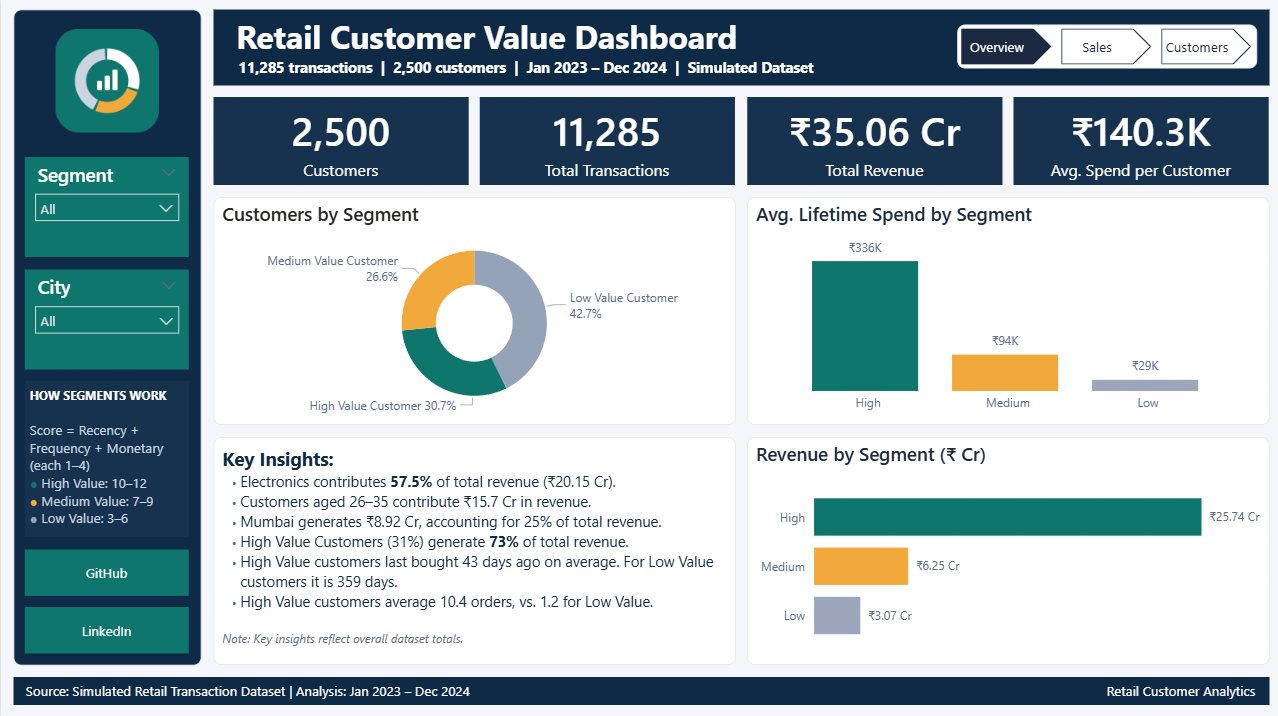

This screenshot's page, from the dashboard's own definition file:
{"tool":"powerbi","page":{"name":"Overview","canvas":[1280,720],"ordinal":0},"visuals":[{"type":"card","fields":{"Values":["High_Value_Customers.Customers"]},"box":[212,100,255,88],"z":0},{"type":"card","fields":{"Values":["High_Value_Customers.Total Transactions"]},"box":[479,100,255,88],"z":1000},{"type":"card","fields":{"Values":["High_Value_Customers.Sales (₹ Cr)"]},"box":[746,100,255,88],"z":2000},{"type":"card","fields":{"Values":["High_Value_Customers.Avg Spend (₹K)"]},"box":[1013,100,255,88],"z":3000},{"type":"donutChart","title":"Customers by Segment","fields":{"Category":["RFM_Analysis.Segment"],"Y":["CountNonNull(RFM_Analysis.customer_id)"]},"box":[212,200,522,228],"z":4000},{"type":"clusteredBarChart","title":"Revenue by Segment (₹ Cr)","fields":{"Category":["RFM_Analysis.Segment Short"],"Y":["High_Value_Customers.Revenue (₹ Cr)"]},"box":[746,440,522,228.2],"z":5000},{"type":"clusteredColumnChart","title":"Avg. Lifetime Spend by Segment","fields":{"Y":["Avg(RFM_Analysis.Monetary)"],"Category":["RFM_Analysis.Segment Short"]},"box":[746,200.3,522,228.2],"z":6000},{"type":"textbox","box":[212,12,1056,76],"z":7000},{"type":"textbox","box":[212,440,522,228],"z":8000},{"type":"textbox","box":[12,12,188,656],"z":9000},{"type":"textbox","box":[12,680,1256,28],"z":10000},{"type":"pageNavigator","box":[956,28,300,44],"z":11000},{"type":"image","box":[46,24,120,120],"z":12000},{"type":"slicer","fields":{"Values":["RFM_Analysis.Segment"]},"box":[24,160,164,100],"z":13000},{"type":"slicer","fields":{"Values":["Transactions.City"]},"box":[24,272,164.2,100],"z":14000},{"type":"textbox","box":[24,384,164,156],"z":15000},{"type":"actionButton","box":[24,552,164,46],"z":16000},{"type":"actionButton","box":[24,610,164.2,46],"z":17000}]}

Visuals, with their boxes in screenshot pixels (x1, y1, x2, y2), scaled from the page's 1280x720 canvas onto the 1278x716 screenshot:
card - High_Value_Customers.Customers: pyautogui.locateOnScreen(212, 99, 466, 187)
card - High_Value_Customers.Total Transactions: pyautogui.locateOnScreen(478, 99, 733, 187)
card - High_Value_Customers.Sales (₹ Cr): pyautogui.locateOnScreen(745, 99, 999, 187)
card - High_Value_Customers.Avg Spend (₹K): pyautogui.locateOnScreen(1011, 99, 1266, 187)
"Customers by Segment" donutChart: pyautogui.locateOnScreen(212, 199, 733, 426)
"Revenue by Segment (₹ Cr)" clusteredBarChart: pyautogui.locateOnScreen(745, 438, 1266, 664)
"Avg. Lifetime Spend by Segment" clusteredColumnChart: pyautogui.locateOnScreen(745, 199, 1266, 426)
textbox: pyautogui.locateOnScreen(212, 12, 1266, 88)
textbox: pyautogui.locateOnScreen(212, 438, 733, 664)
textbox: pyautogui.locateOnScreen(12, 12, 200, 664)
textbox: pyautogui.locateOnScreen(12, 676, 1266, 704)
pageNavigator: pyautogui.locateOnScreen(955, 28, 1254, 72)
image: pyautogui.locateOnScreen(46, 24, 166, 143)
slicer - RFM_Analysis.Segment: pyautogui.locateOnScreen(24, 159, 188, 259)
slicer - Transactions.City: pyautogui.locateOnScreen(24, 270, 188, 370)
textbox: pyautogui.locateOnScreen(24, 382, 188, 537)
actionButton: pyautogui.locateOnScreen(24, 549, 188, 595)
actionButton: pyautogui.locateOnScreen(24, 607, 188, 652)
